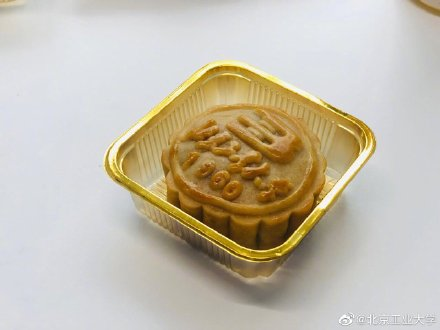MoonCake: (161, 102, 327, 248)
